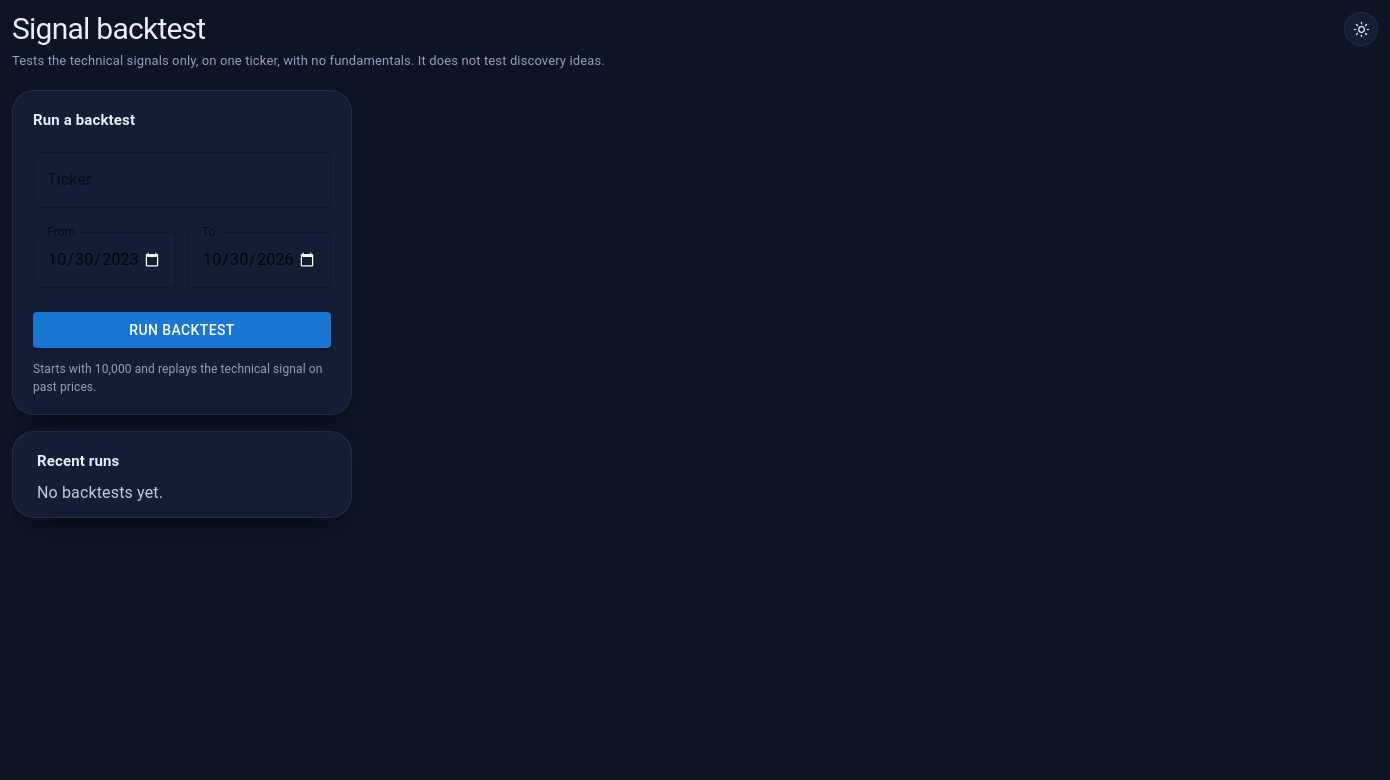
Test: BacktestsPage › shows a calm warning for a failed job and leaves the form usable
Expected: the text "No backtests yet." is shown, [37,482,163,502]
Type "AAPL" into the dropdown labelled "Ticker" at (182, 180), box [42,160,322,198]
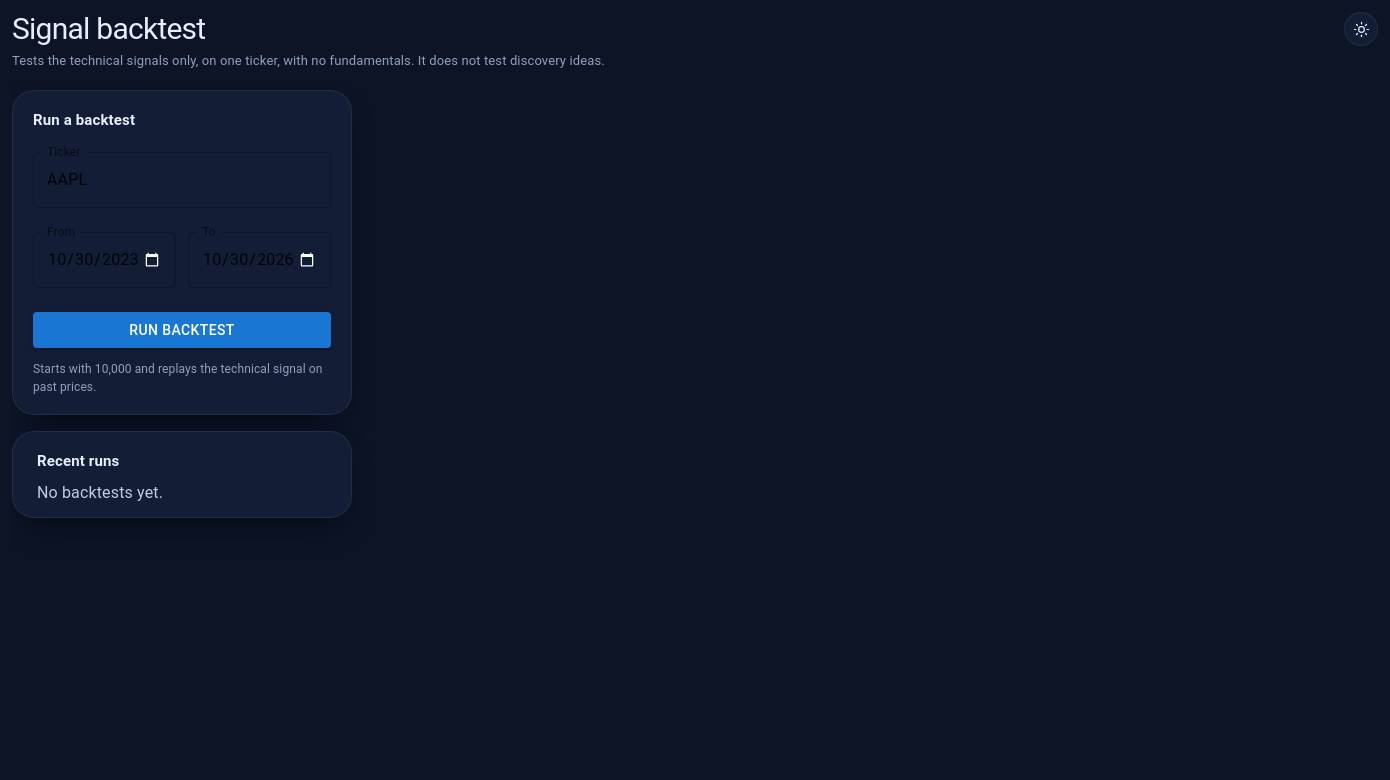
Click the button "Run backtest" at (182, 330), box [33,312,331,348]
Wait 2100 ms
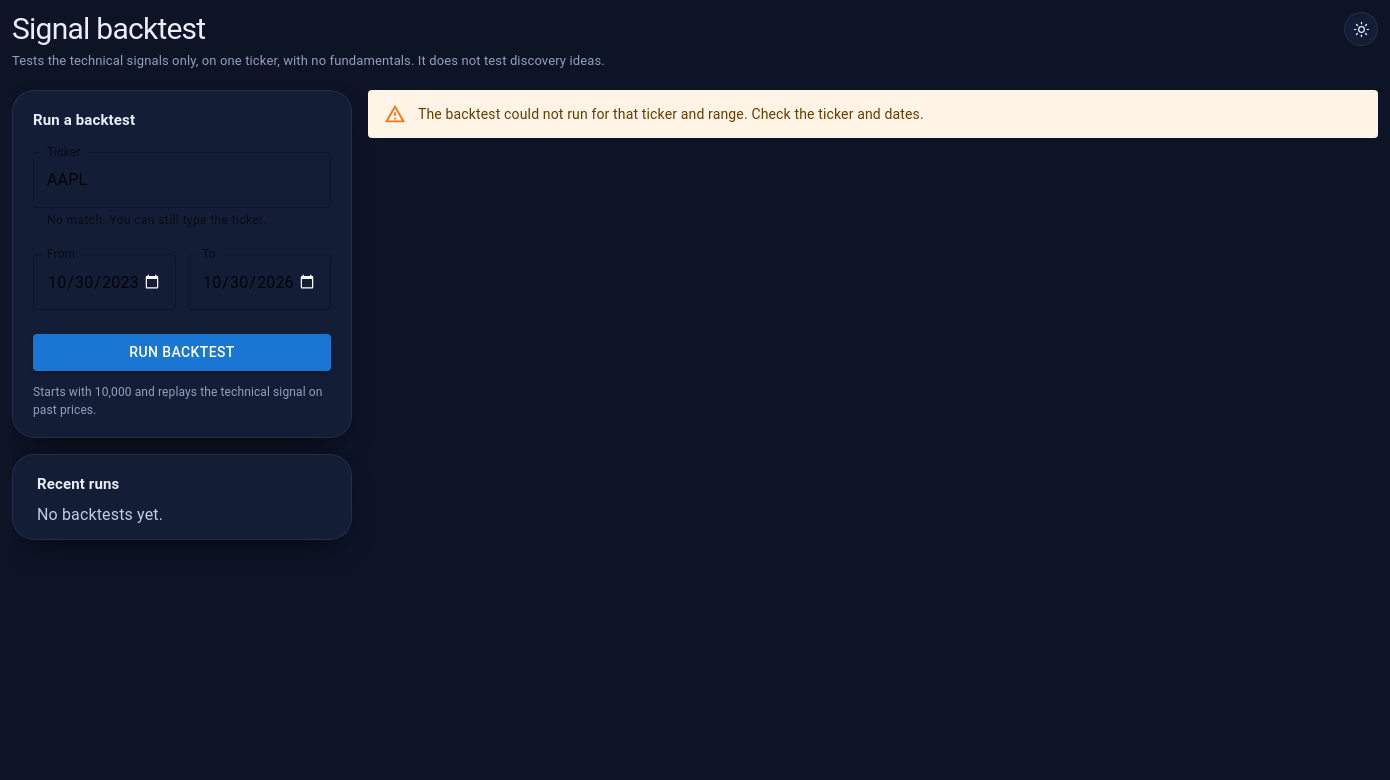
Expected: the button "Run backtest" is enabled, [33,334,331,371]
Now the text "The backtest could not run for that ticker and range. Check the ticker and dates." is shown, box [418,106,924,122]
